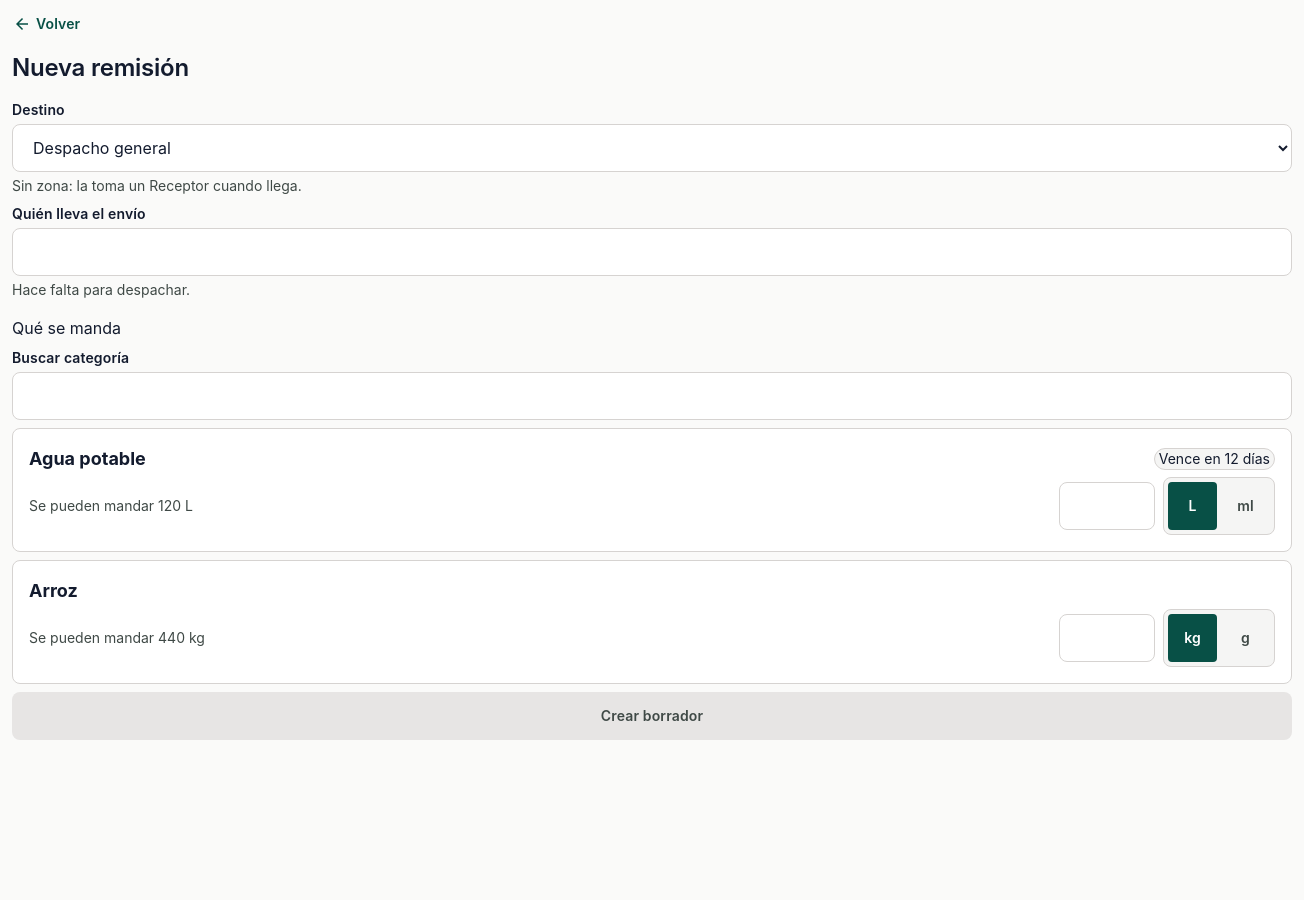
Test: una zona de una emergencia cerrada muestra el mensaje de la API junto al destino
Select "Barrio San Agustín · Mocoa" in the dropdown labelled "Destino" at (652,148), box [12,124,1292,172]
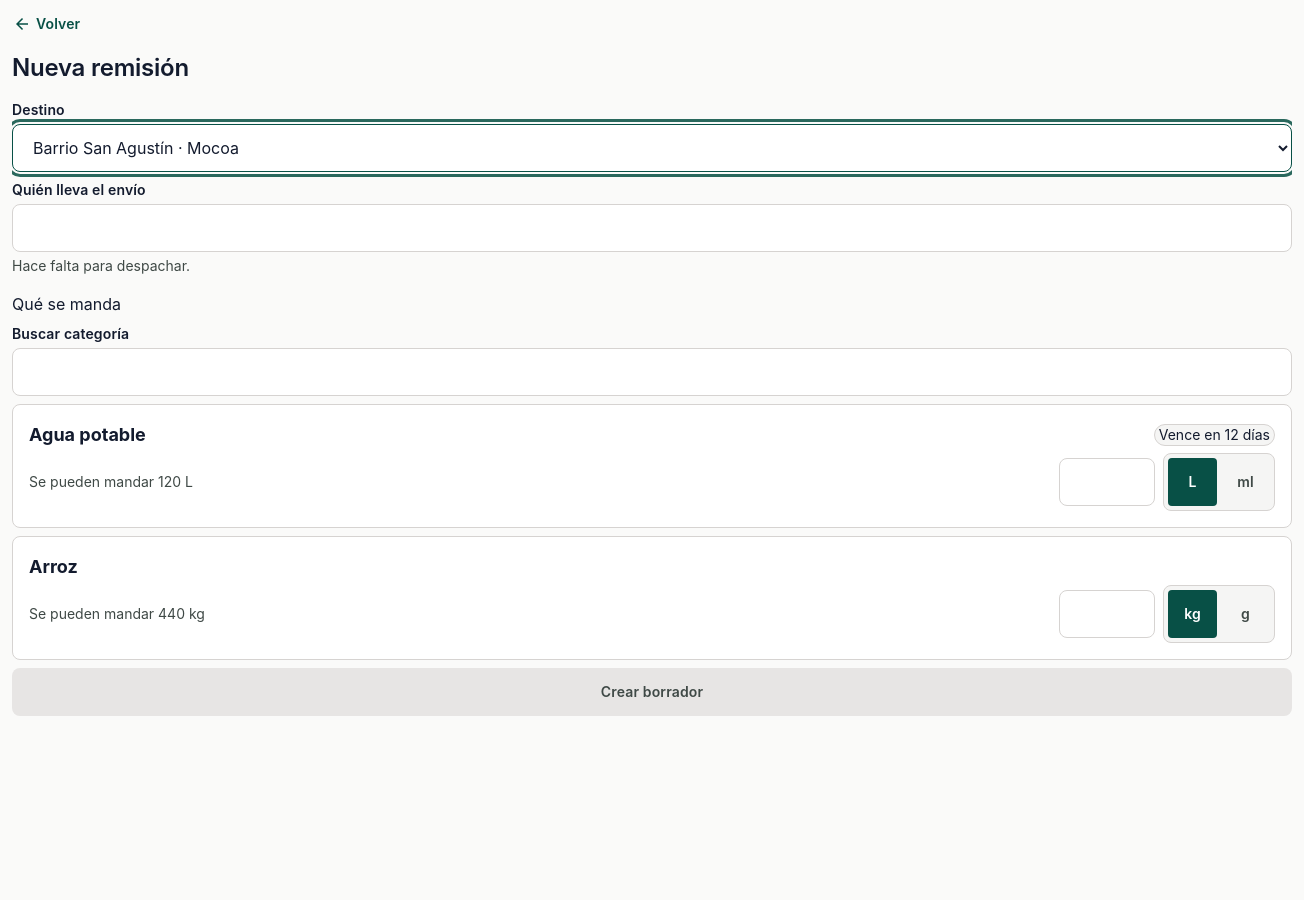
Type "12" into the number field named "Cantidad de Arroz (kg)" in the row of "440 kg".
click(1107, 614); type("12")  # box [1059,590,1155,638]
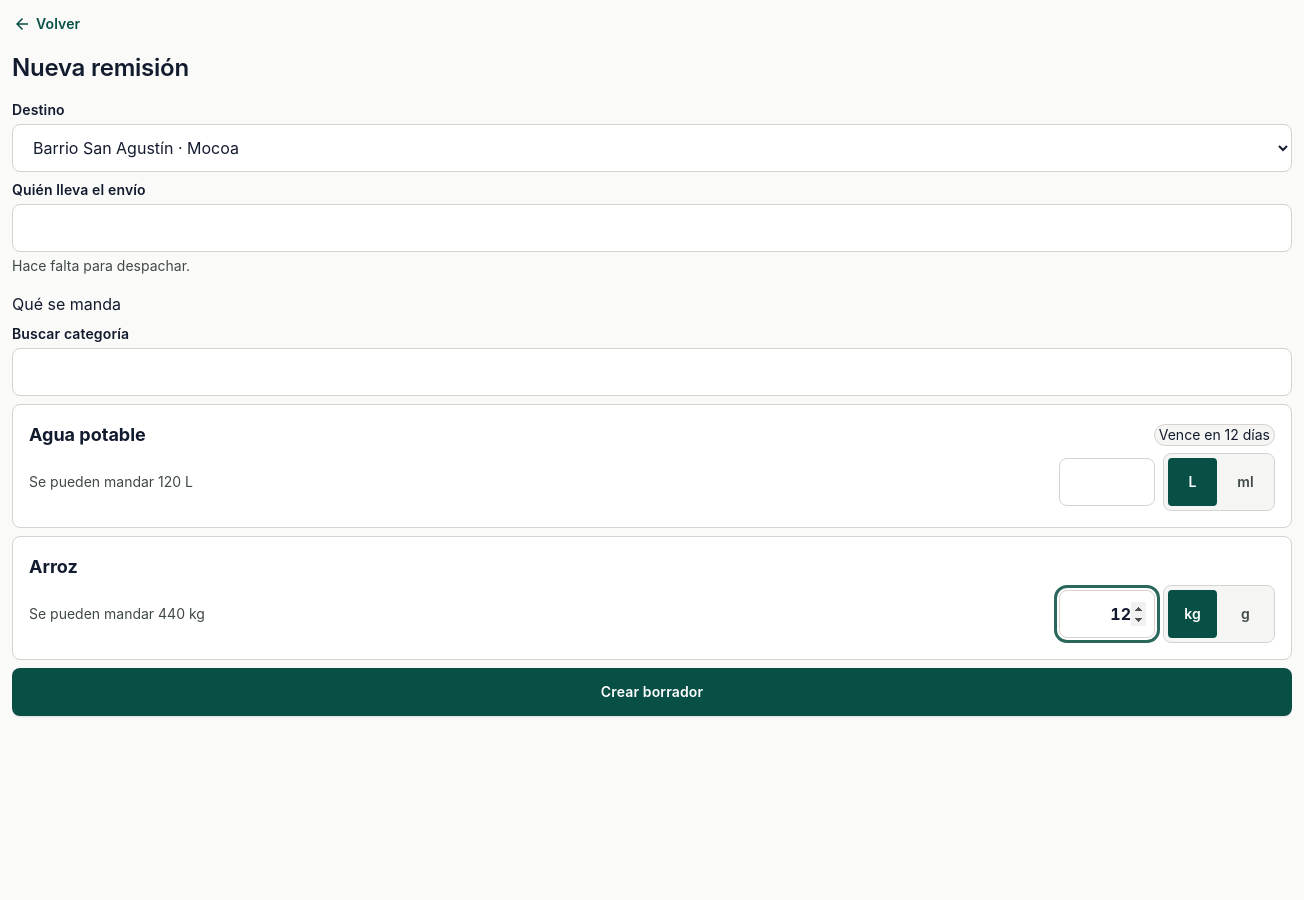
Click the button "Crear borrador".
click(652, 692)  # box [12,668,1292,716]
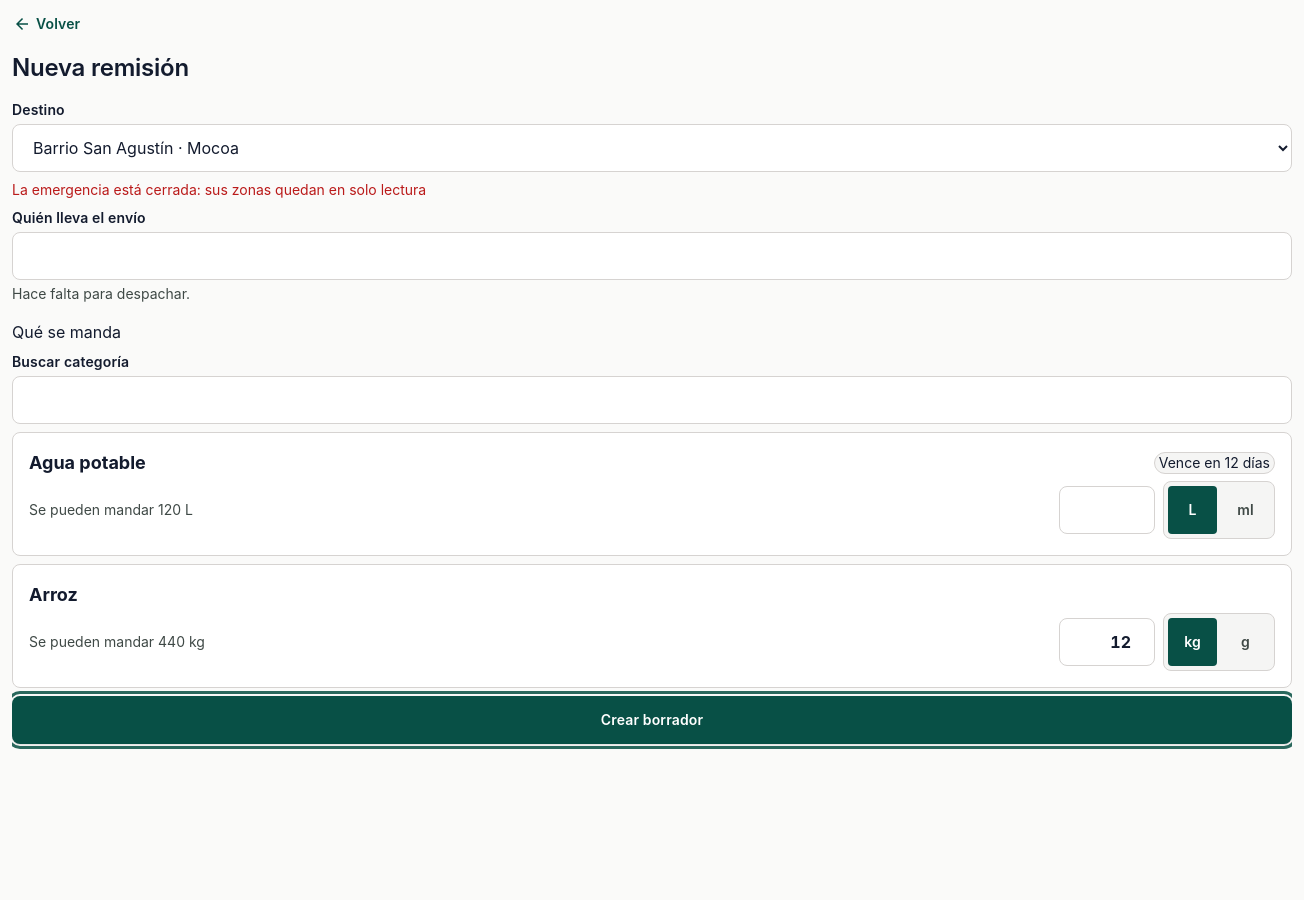
Expected: the text "La emergencia está cerrada: sus zonas quedan en solo lectura" is shown, [12,181,426,198]
